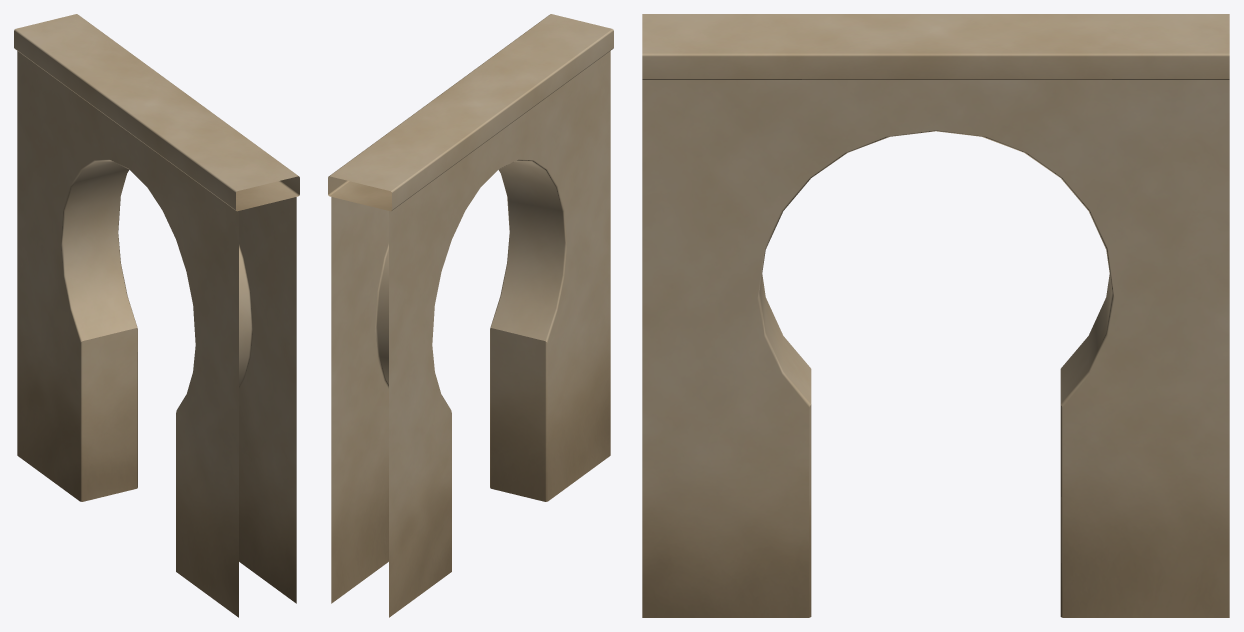
Rendered from ArchKeyholeP01.fbx.
3 renders of one model, left to right at view 1: azimuth 30°, elevation 25°; view 2: azimuth 150°, elevation 25°; view 3: azimuth 270°, elevation 25°, orthographic. The views are drawn at different scales.
Parts seen in each view (by area): view 1: ArchKeyholeP01; view 2: ArchKeyholeP01; view 3: ArchKeyholeP01.
Boxes of the visible parts, x1,y1,x2,y2 form: ArchKeyholeP01: [14, 14, 299, 617]; ArchKeyholeP01: [328, 14, 613, 617]; ArchKeyholeP01: [642, 14, 1229, 617].
Size of the model in its own units: 1.02 by 6.48 by 6.1.
